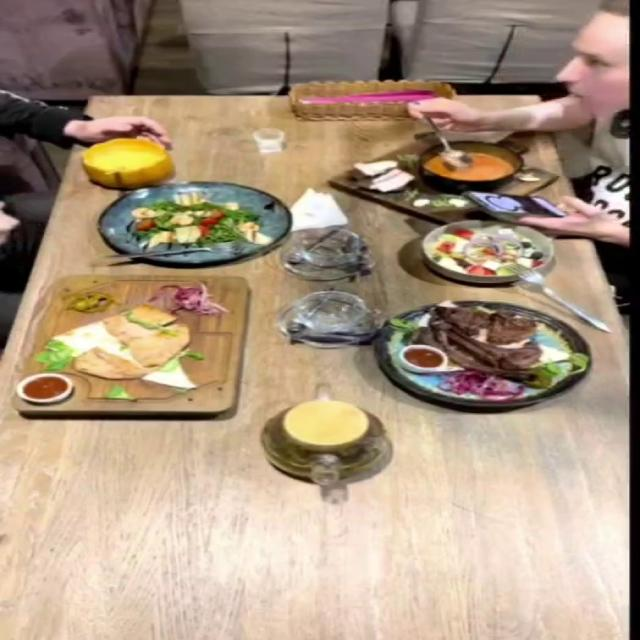alcohol: (250, 130, 302, 163)
meat: (385, 300, 575, 415)
salat: (92, 197, 347, 268), (409, 226, 579, 293)
soup: (407, 114, 564, 210), (80, 126, 182, 186)
tea: (265, 396, 430, 482)
